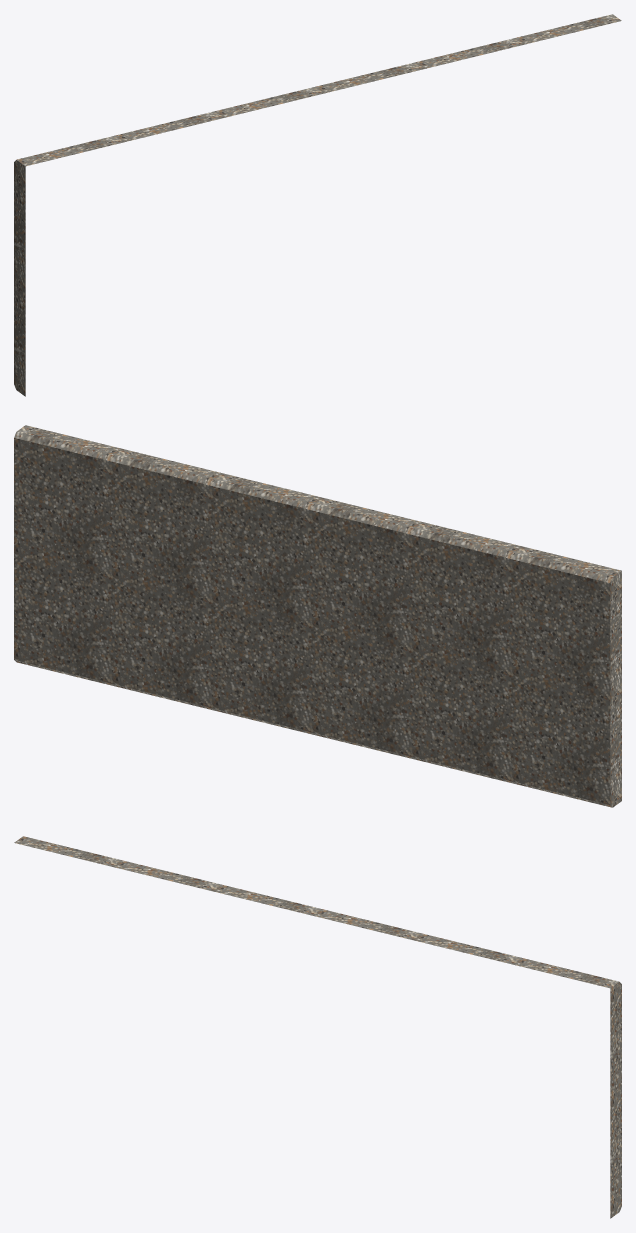
Rendered from loggia_platte.glb.
3 renders of one model, top to bottom at view 1: azimuth 30°, elevation 25°; view 2: azimuth 150°, elevation 25°; view 3: azimuth 330°, elevation 25°, orthographic.
Parts seen in each view (by area): view 1: loggia_platte; view 2: loggia_platte; view 3: loggia_platte.
Boxes of the visible parts, x1,y1,x2,y2 form: loggia_platte: [14, 14, 621, 396]; loggia_platte: [14, 425, 621, 807]; loggia_platte: [14, 836, 621, 1218].
Bounding box in the file's own units: 2.98 × 1.1 × 0.1.
Materials: 1 (1 with a texture image).
